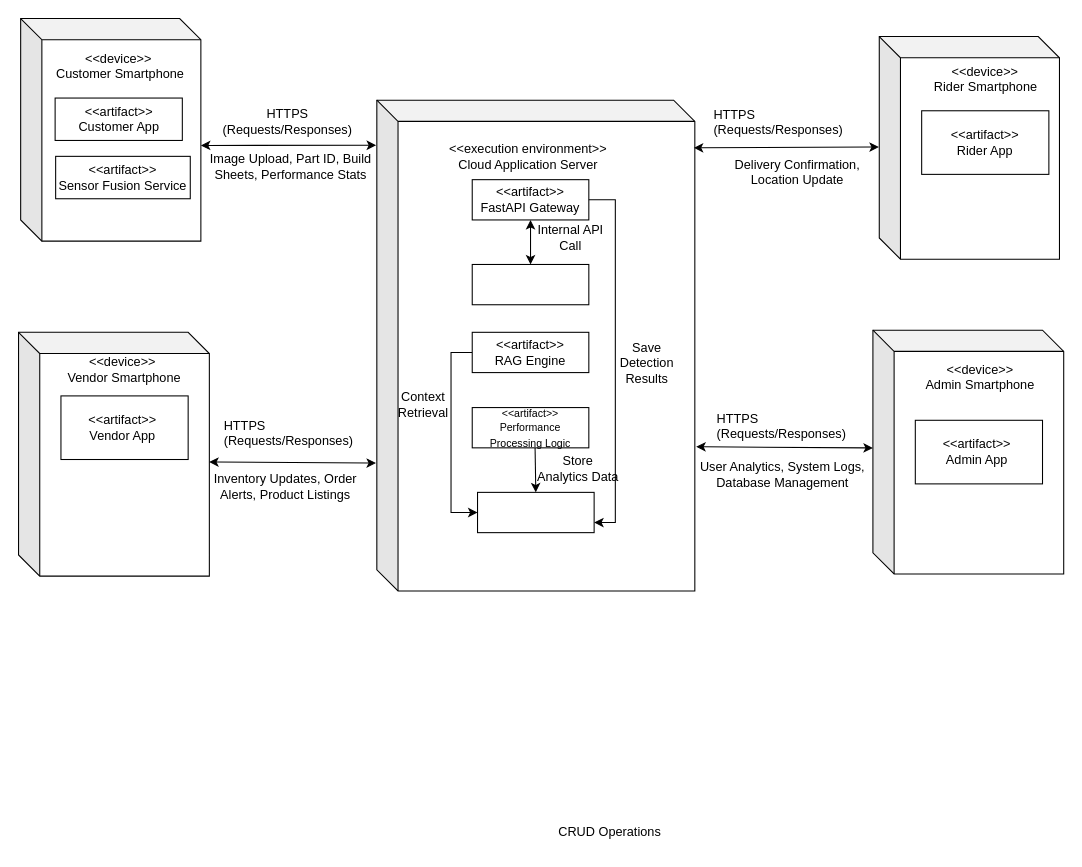
This 1082x867 diagram has some shape labels left out. The shapes that lost their labels are listed below. From the top down, each one's centre as x and y in pixels, then its label:
At point 530,284: "<<artifact>> YOLOv11 Engine".
At point 535,512: "<<artifact>> PostgreSQL DB".
